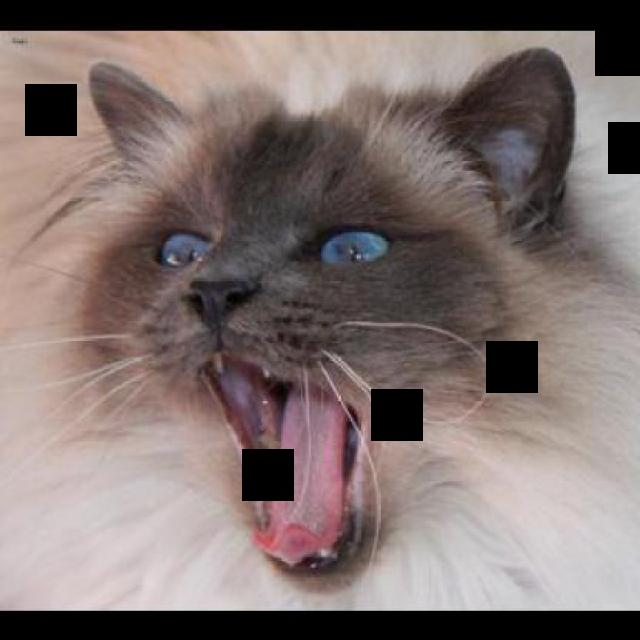unauthorized: (0, 40, 638, 611)
